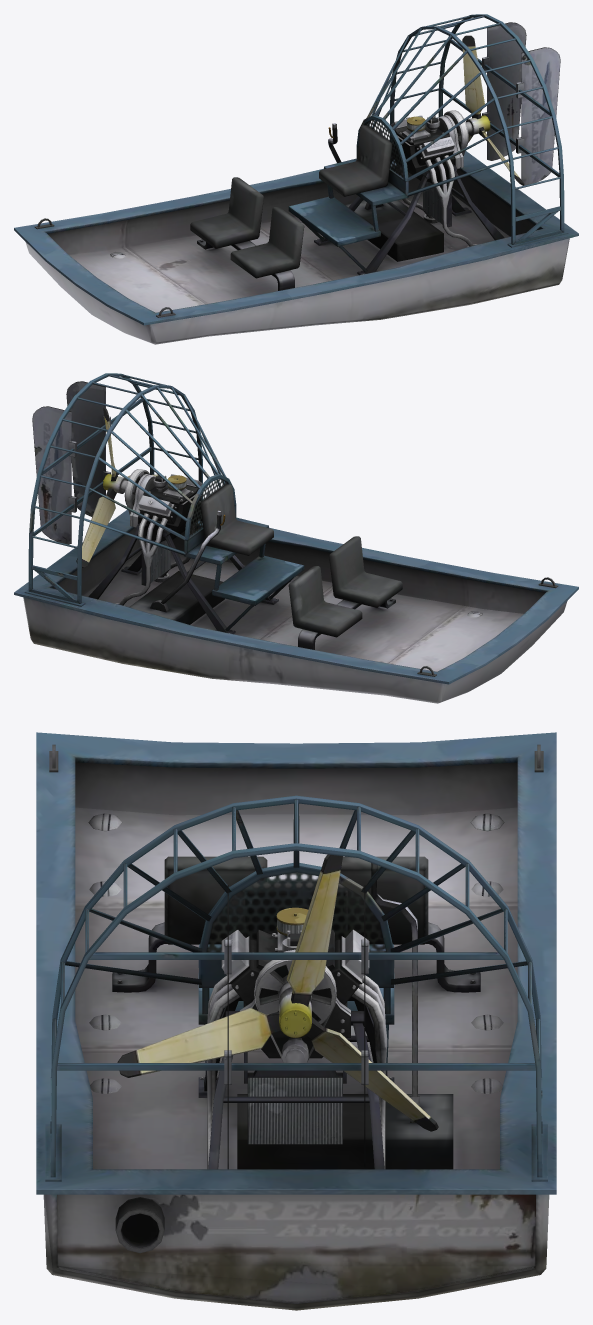
The picture shows the model from 3 angles, top to bottom: view 1: azimuth 30°, elevation 25°; view 2: azimuth 150°, elevation 25°; view 3: azimuth 270°, elevation 25°; orthographic projection. The views are drawn at different scales.
Parts seen in each view (by area): view 1: body0_model0_lod0_mesh1, body0_model0_lod0_mesh2, body0_model0_lod0_mesh0, body0_model0_lod0_mesh3; view 2: body0_model0_lod0_mesh1, body0_model0_lod0_mesh2, body0_model0_lod0_mesh0, body0_model0_lod0_mesh3; view 3: body0_model0_lod0_mesh1, body0_model0_lod0_mesh2, body0_model0_lod0_mesh0, body0_model0_lod0_mesh3.
Part boxes in pixels (x1,y1,x2,y2): body0_model0_lod0_mesh1: [14, 150, 578, 344]; body0_model0_lod0_mesh2: [190, 14, 568, 290]; body0_model0_lod0_mesh0: [314, 35, 524, 275]; body0_model0_lod0_mesh3: [366, 120, 403, 177]; body0_model0_lod0_mesh1: [14, 509, 578, 703]; body0_model0_lod0_mesh2: [24, 373, 402, 649]; body0_model0_lod0_mesh0: [76, 407, 278, 634]; body0_model0_lod0_mesh3: [189, 479, 226, 536]; body0_model0_lod0_mesh1: [36, 732, 556, 1310]; body0_model0_lod0_mesh2: [45, 795, 547, 1181]; body0_model0_lod0_mesh0: [117, 854, 438, 1169]; body0_model0_lod0_mesh3: [207, 872, 385, 952].
Size of the model in its own units: 395 by 189 by 190.
Materials: 4 (4 with a texture image).
